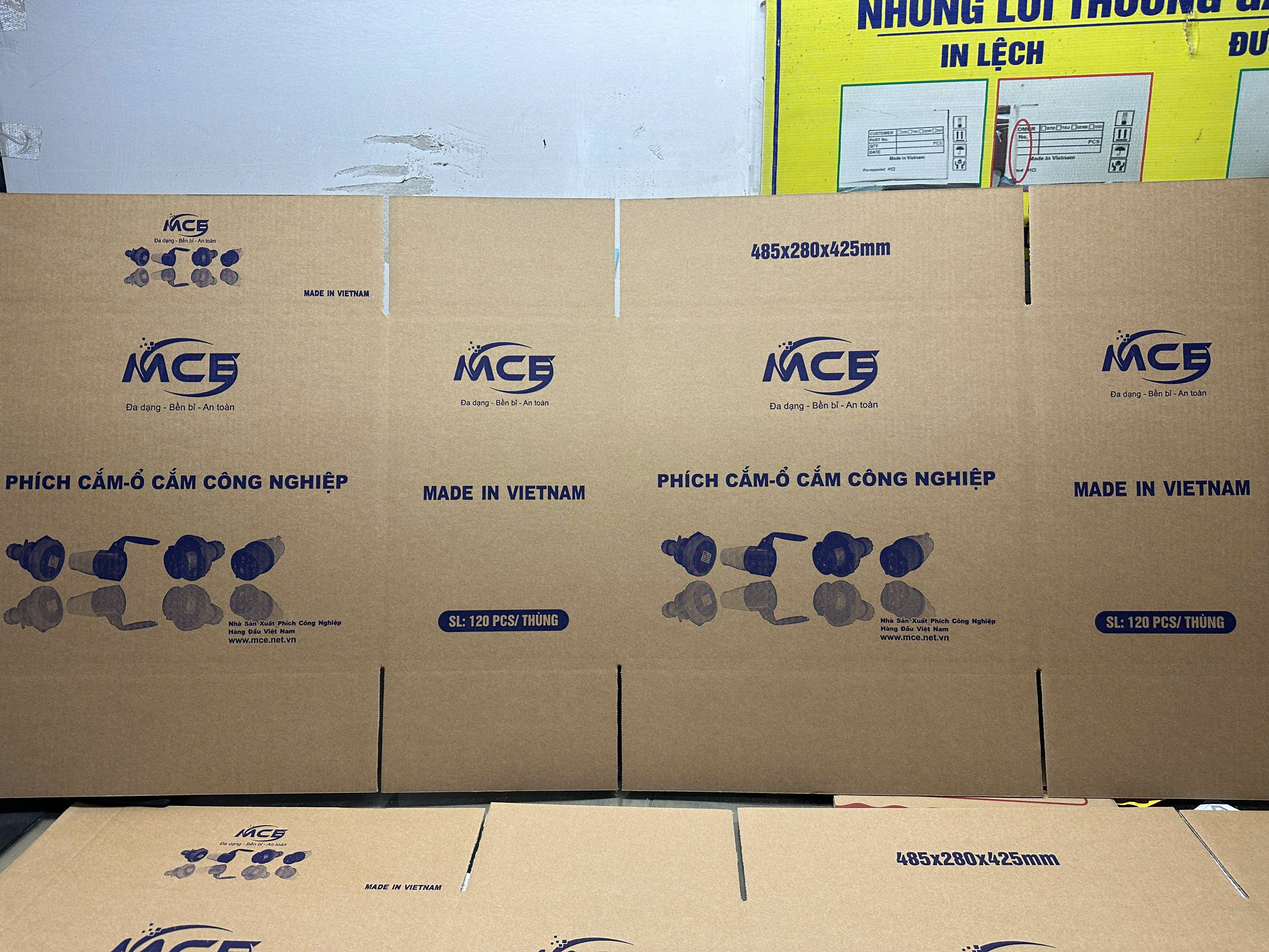box: (0, 180, 1269, 797)
